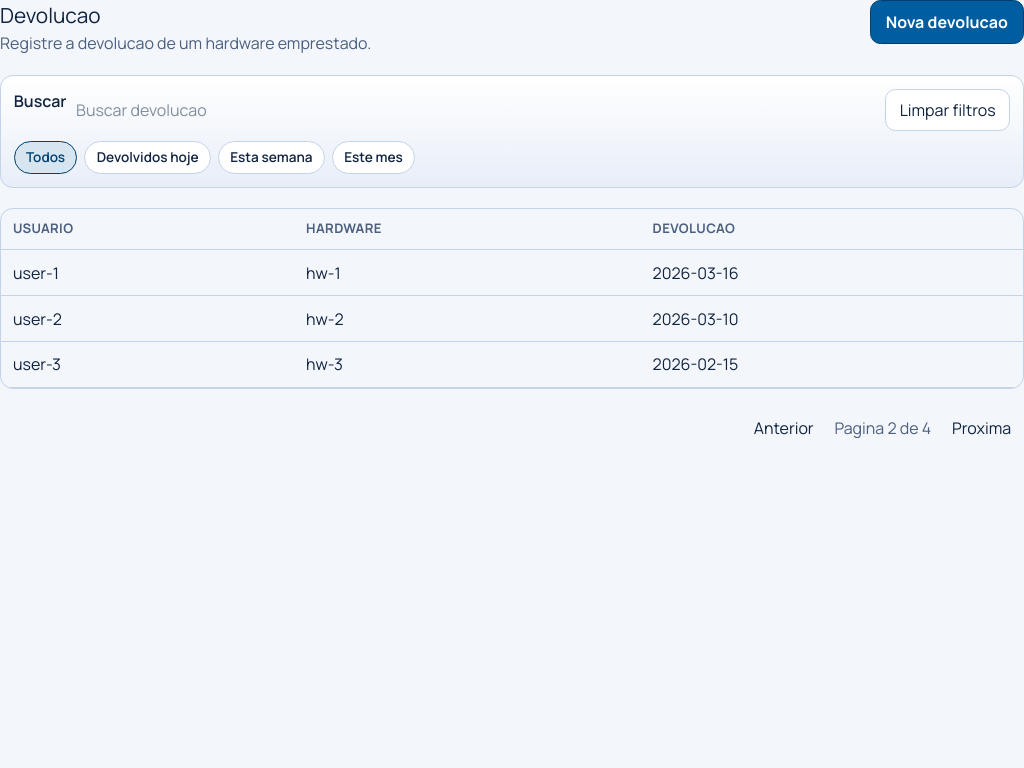
Scenario: DevolucaoPage listing flow › disables submit and shows empty-state when no open emprestimos
Click the button "Nova devolucao" at {"x": 947, "y": 22}, box [870,0,1023,44]
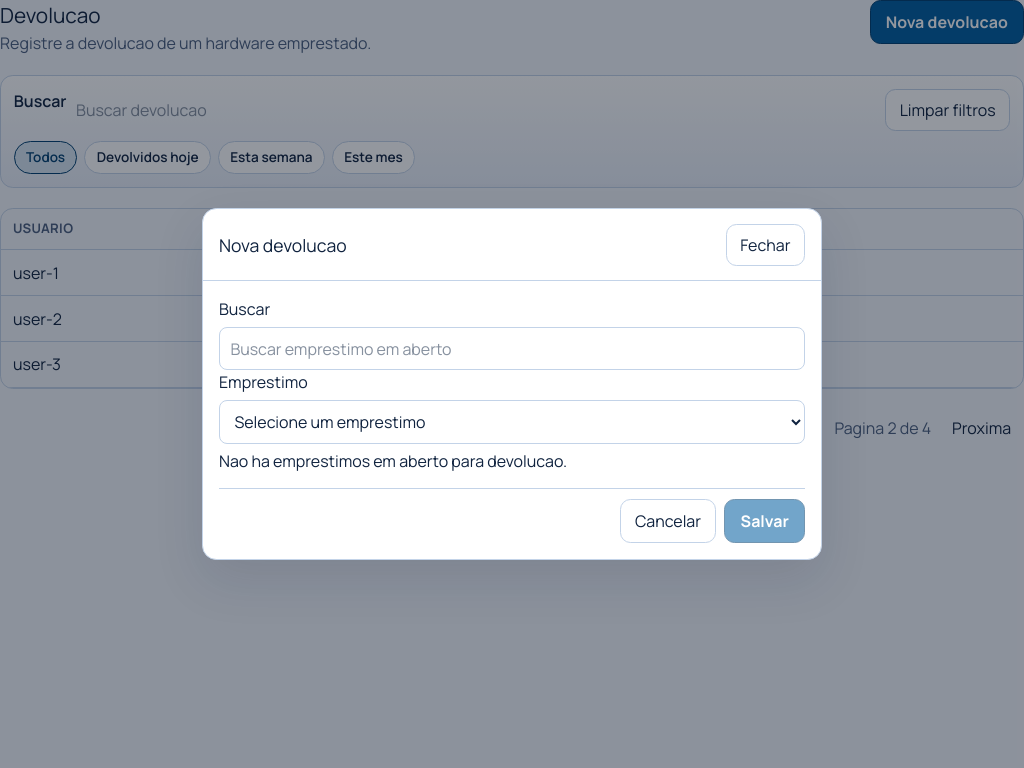
Expected: the text "Nao ha emprestimos em aberto para devolucao." is shown, [219,450,567,472]
Expected: the button "Salvar" is disabled, [724,499,805,543]
